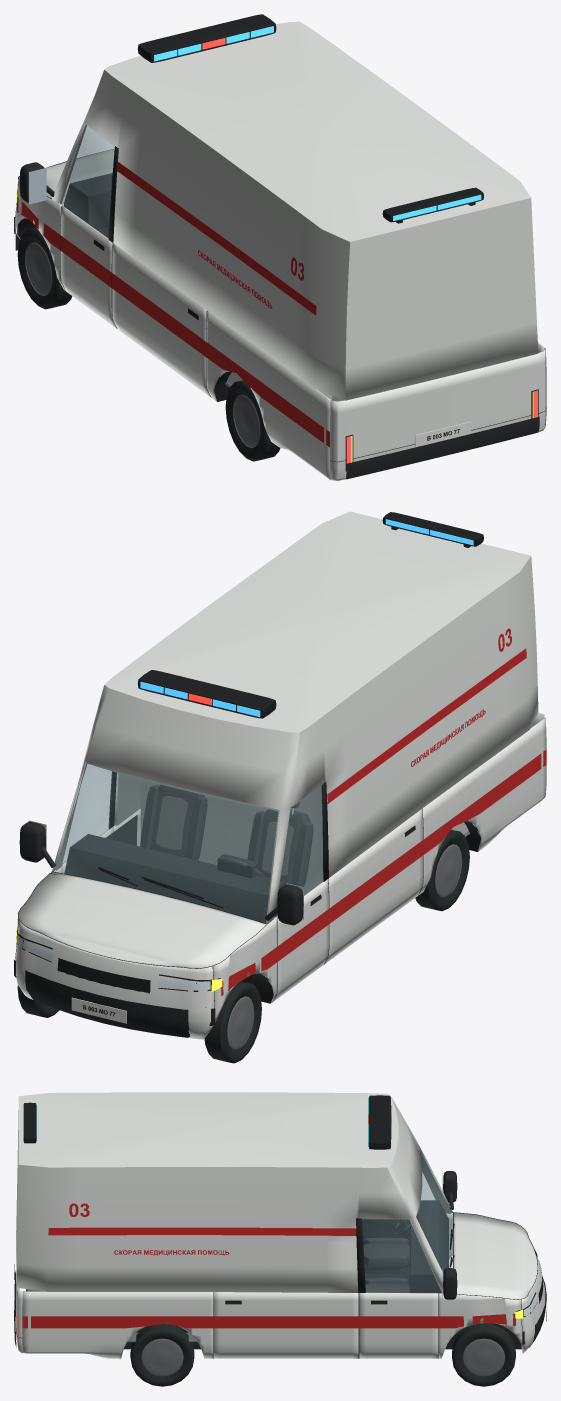
Rendered from DS_Ambulance_A_Traffic.fbx.
3 views of the same model, one above another, from view 1: azimuth 30°, elevation 25°; view 2: azimuth 150°, elevation 25°; view 3: azimuth 270°, elevation 25° (orthographic). The views are drawn at different scales.
Parts seen in each view (by area): view 1: Roof, Bumper_Rear, Body_Rear_L, Door_Slide_L, Stripe_Red_Lower_L, Glass_Front_L, Door_Front_L, Bumper_Rear_Step, LightBar, Stripe_Red_Box_L, Dashboard, Wheel_FL_Tyre (+9 smaller); view 2: Roof, Glass_Windshield, Hood, Dashboard, Body_Rear_L, Bumper_Front, Door_Slide_L, Stripe_Red_Lower_L, Partition, Bumper_Front_Lower, Glass_Front_L, Door_Front_L (+21 smaller); view 3: Roof, Body_Rear_R, Door_Slide_R, Hood, Stripe_Red_Lower_R, Glass_Front_R, Door_Front_R, Dashboard, Stripe_Red_Box_R, Glass_Windshield, Fender_Front_R, Wheel_FR_Tyre (+17 smaller).
Part boxes in pixels (left/top/right/bottom): Roof: left=52, top=21, right=538, bottom=400; Bumper_Rear: left=330, top=348, right=546, bottom=480; Body_Rear_L: left=206, top=311, right=330, bottom=479; Door_Slide_L: left=112, top=243, right=210, bottom=397; Stripe_Red_Lower_L: left=16, top=197, right=329, bottom=447; Glass_Front_L: left=59, top=124, right=114, bottom=237; Door_Front_L: left=60, top=205, right=116, bottom=328; Bumper_Rear_Step: left=346, top=416, right=539, bottom=479; LightBar: left=137, top=14, right=276, bottom=62; Stripe_Red_Box_L: left=117, top=162, right=316, bottom=315; Dashboard: left=64, top=173, right=112, bottom=229; Wheel_FL_Tyre: left=17, top=227, right=72, bottom=309; Roof: left=52, top=511, right=538, bottom=923; Glass_Windshield: left=54, top=762, right=279, bottom=922; Hood: left=18, top=872, right=266, bottom=968; Dashboard: left=64, top=834, right=285, bottom=923; Body_Rear_L: left=419, top=718, right=546, bottom=894; Bumper_Front: left=15, top=919, right=214, bottom=1039; Door_Slide_L: left=325, top=809, right=423, bottom=963; Stripe_Red_Lower_L: left=221, top=749, right=546, bottom=996; Partition: left=140, top=779, right=323, bottom=895; Bumper_Front_Lower: left=14, top=960, right=215, bottom=1037; Glass_Front_L: left=274, top=785, right=322, bottom=917; Door_Front_L: left=273, top=879, right=328, bottom=1001; Roof: left=16, top=1092, right=452, bottom=1292; Body_Rear_R: left=22, top=1291, right=213, bottom=1358; Door_Slide_R: left=213, top=1292, right=358, bottom=1358; Hood: left=453, top=1212, right=537, bottom=1299; Stripe_Red_Lower_R: left=22, top=1314, right=515, bottom=1328; Glass_Front_R: left=362, top=1218, right=442, bottom=1292; Door_Front_R: left=359, top=1292, right=438, bottom=1358; Dashboard: left=410, top=1200, right=448, bottom=1293; Stripe_Red_Box_R: left=48, top=1227, right=356, bottom=1235; Glass_Windshield: left=416, top=1147, right=452, bottom=1272; Fender_Front_R: left=438, top=1293, right=521, bottom=1358; Wheel_FR_Tyre: left=452, top=1323, right=515, bottom=1386.
Bounding box in the file's own units: 263 × 564 × 268.
